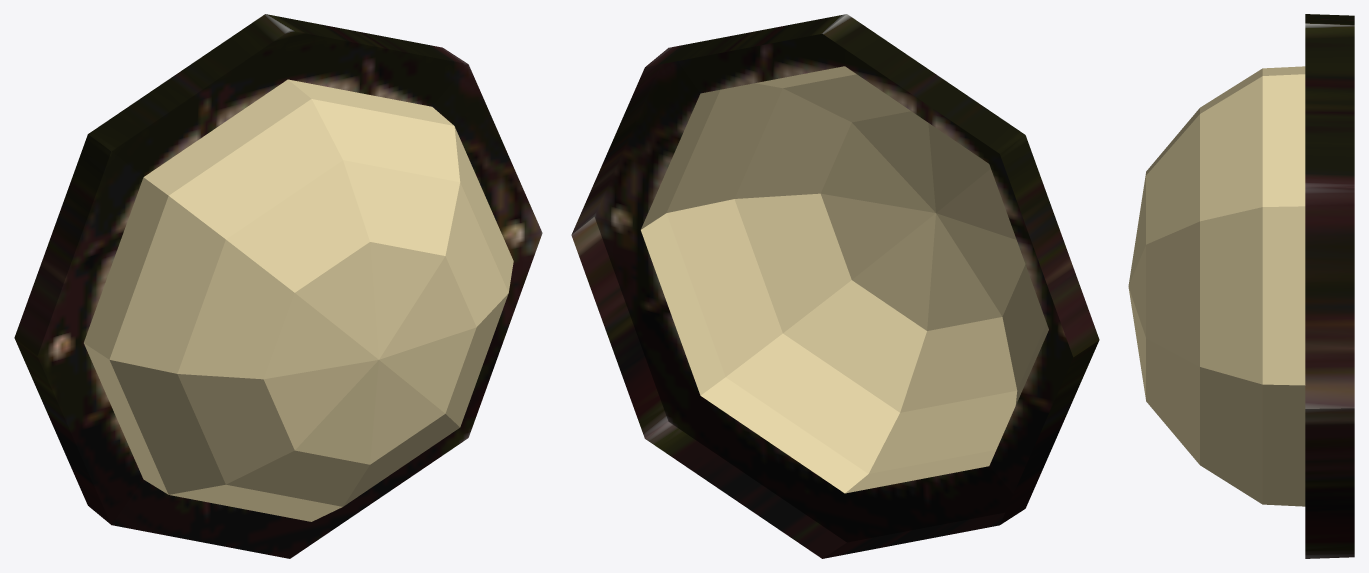
File: Plafon_Balcon.fbx
3 views of the same model, side by side, from view 1: azimuth 30°, elevation 25°; view 2: azimuth 150°, elevation 25°; view 3: azimuth 270°, elevation 25° (orthographic).
Visible parts, largest first — view 1: Sphere; view 2: Sphere; view 3: Sphere.
Boxes of the visible parts, <box> form: Sphere: <box>14,14,542,558</box>; Sphere: <box>571,14,1099,558</box>; Sphere: <box>1128,14,1354,558</box>.
Bounding box in the file's own units: 35.5 × 35.5 × 13.84.
